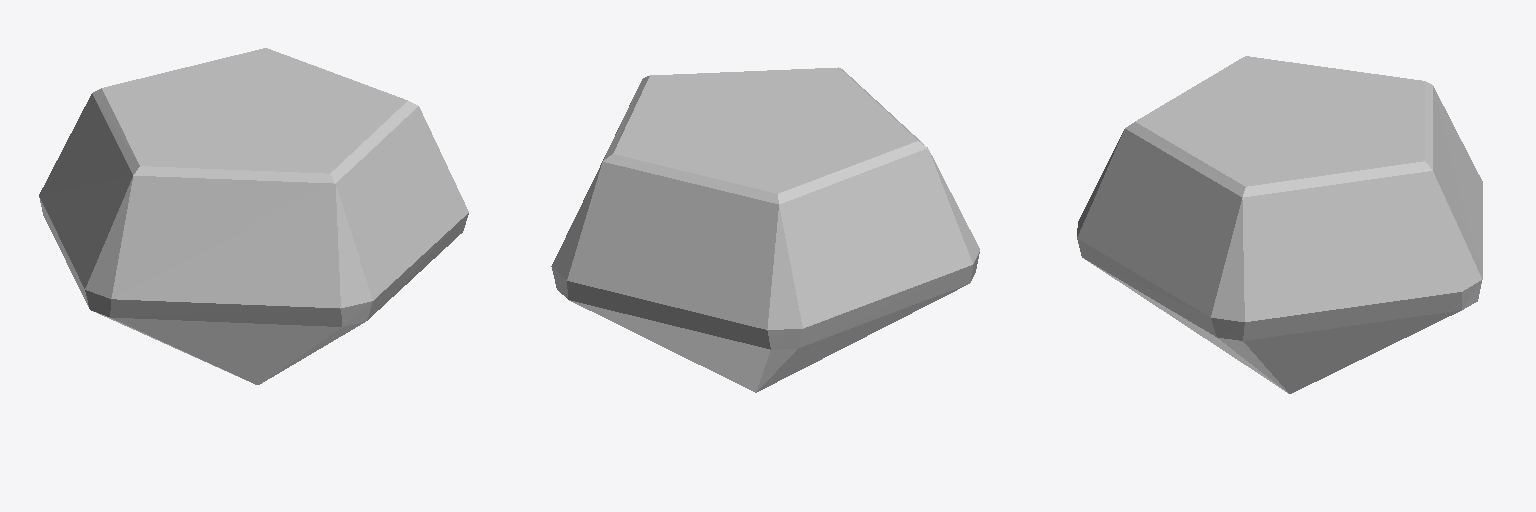
The model's file is Purple Gem.obj.
3 views of the same model, side by side, from view 1: azimuth 30°, elevation 25°; view 2: azimuth 150°, elevation 25°; view 3: azimuth 270°, elevation 25° (orthographic).
Parts seen in each view (by area): view 1: Purple_Gem; view 2: Purple_Gem; view 3: Purple_Gem.
Boxes of the visible parts, <box> form: Purple_Gem: <box>39,48,468,384</box>; Purple_Gem: <box>551,67,979,392</box>; Purple_Gem: <box>1077,56,1482,393</box>.
Size of the model in its own units: 10.63 by 7.29 by 9.93.